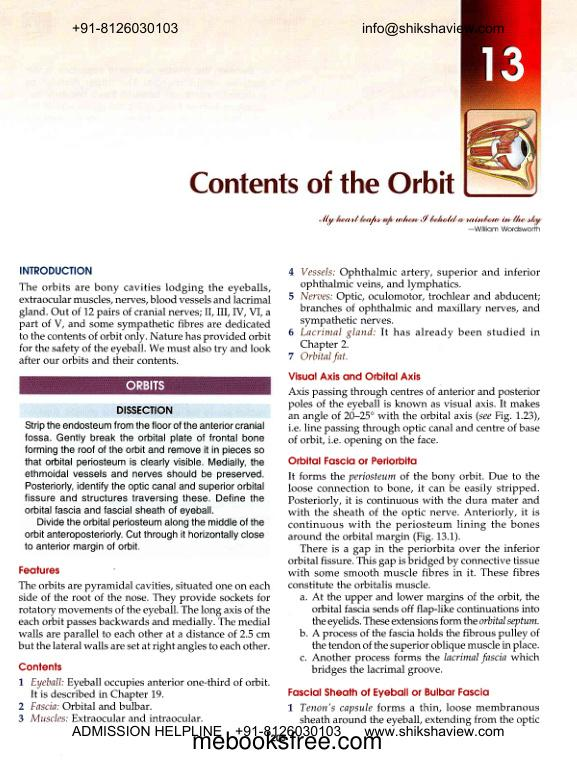caption: (116, 404, 174, 415)
chapter-heading: (188, 168, 458, 197)
list: (286, 266, 542, 363), (298, 591, 542, 677), (17, 676, 271, 723), (286, 701, 542, 727)
section-heading: (18, 265, 94, 276), (124, 378, 166, 391)
sub-section-heading: (287, 686, 491, 699), (287, 371, 422, 382), (287, 455, 418, 466), (17, 661, 63, 673), (18, 564, 61, 575)
text: (23, 419, 266, 554), (287, 471, 541, 590), (18, 281, 272, 366), (17, 579, 271, 654), (287, 385, 540, 448)
